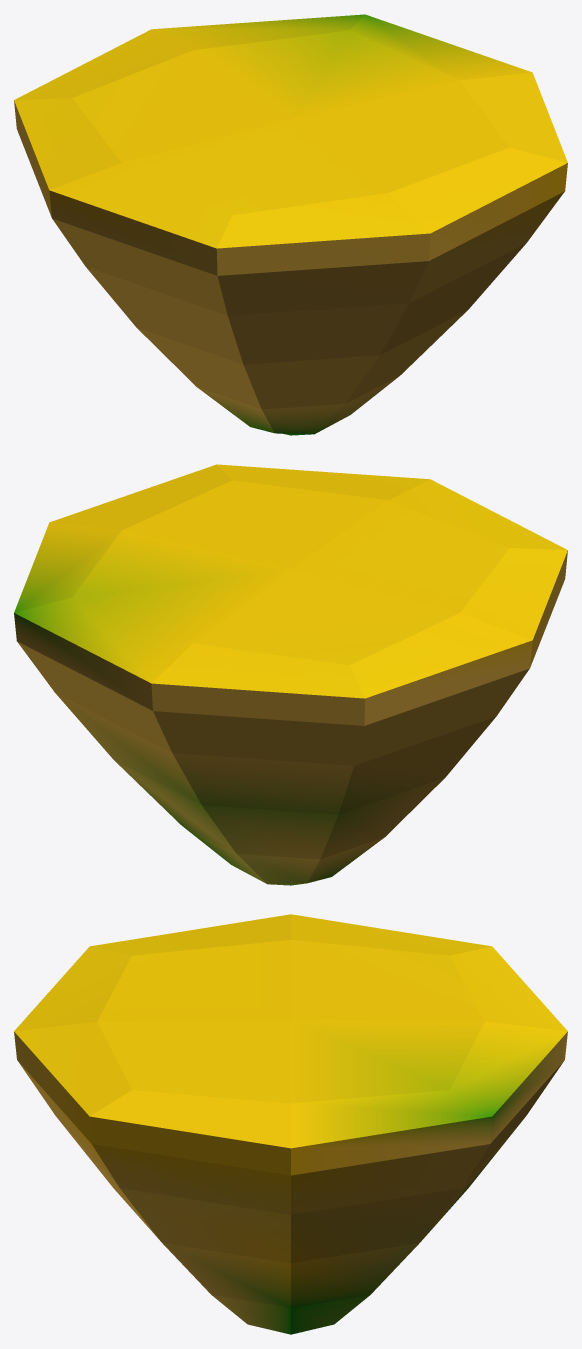
Rendered from sandIsland.fbx.
3 renders of one model, top to bottom at view 1: azimuth 30°, elevation 25°; view 2: azimuth 150°, elevation 25°; view 3: azimuth 270°, elevation 25°, orthographic.
Visible parts, largest first — view 1: Cube.004; view 2: Cube.004; view 3: Cube.004.
Part boxes in pixels (x1=…): Cube.004: x1=14, y1=14, x2=567, y2=435; Cube.004: x1=14, y1=464, x2=567, y2=885; Cube.004: x1=14, y1=914, x2=567, y2=1334.
Size of the model in its own units: 4625 by 2893 by 4625.
